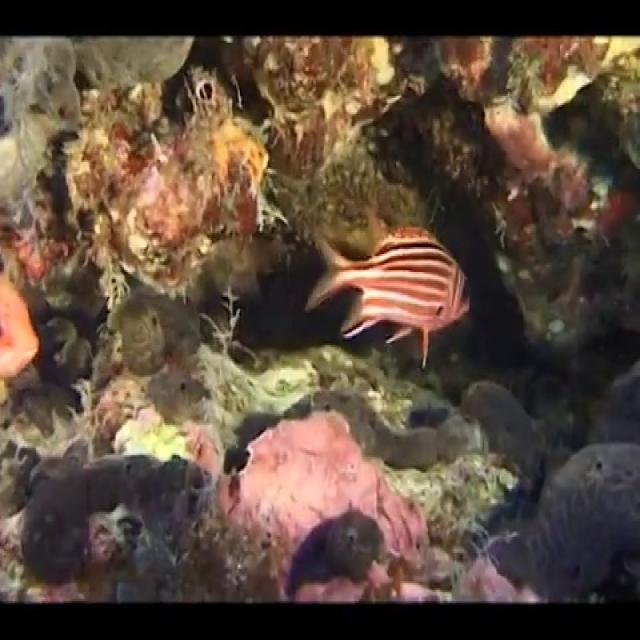Asker Baligi: (303, 222, 472, 370)
